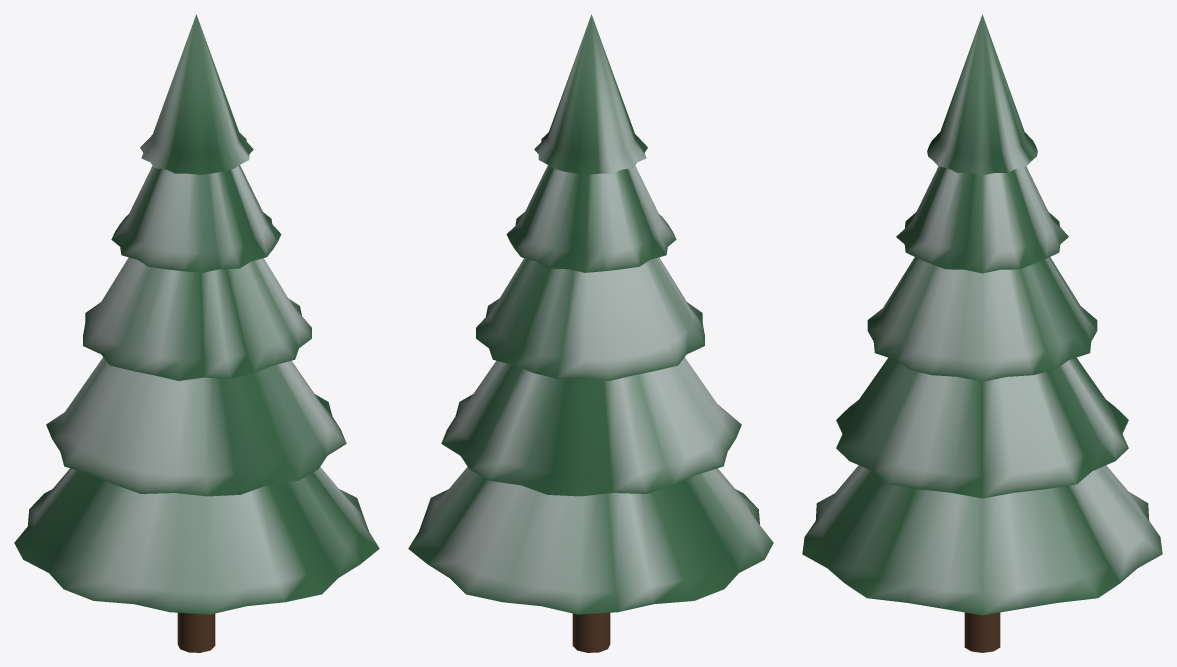
File: Xmas_Fir_Col.fbx
3 views of the same model, side by side, from view 1: azimuth 30°, elevation 25°; view 2: azimuth 150°, elevation 25°; view 3: azimuth 270°, elevation 25° (orthographic).
Parts seen in each view (by area): view 1: Xmas_Fir_Col; view 2: Xmas_Fir_Col; view 3: Xmas_Fir_Col.
Part boxes in pixels (x1,y1,x2,y2): Xmas_Fir_Col: [14, 14, 379, 652]; Xmas_Fir_Col: [408, 14, 773, 652]; Xmas_Fir_Col: [802, 14, 1162, 652].
Bounding box in the file's own units: 19.15 × 36.8 × 19.05.
